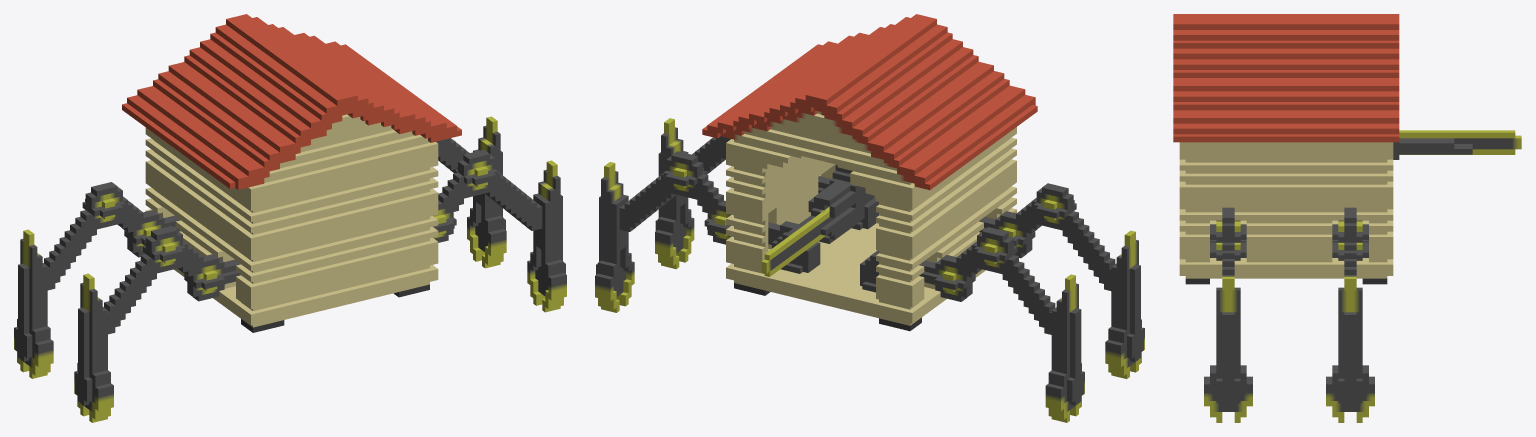
The model's file is Character-Enemies-3-DogMed.fbx.
3 renders of one model, left to right at view 1: azimuth 30°, elevation 25°; view 2: azimuth 150°, elevation 25°; view 3: azimuth 270°, elevation 25°, orthographic. The views are drawn at different scales.
Parts seen in each view (by area): view 1: DogMed; view 2: DogMed; view 3: DogMed.
Boxes of the visible parts, x1,y1,x2,y2 form: DogMed: (14, 14, 566, 422); DogMed: (595, 14, 1144, 422); DogMed: (1173, 14, 1521, 422).
Bounding box in the file's own units: 92 × 52 × 57.
